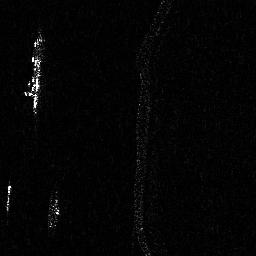ship: (25, 29, 45, 99)
